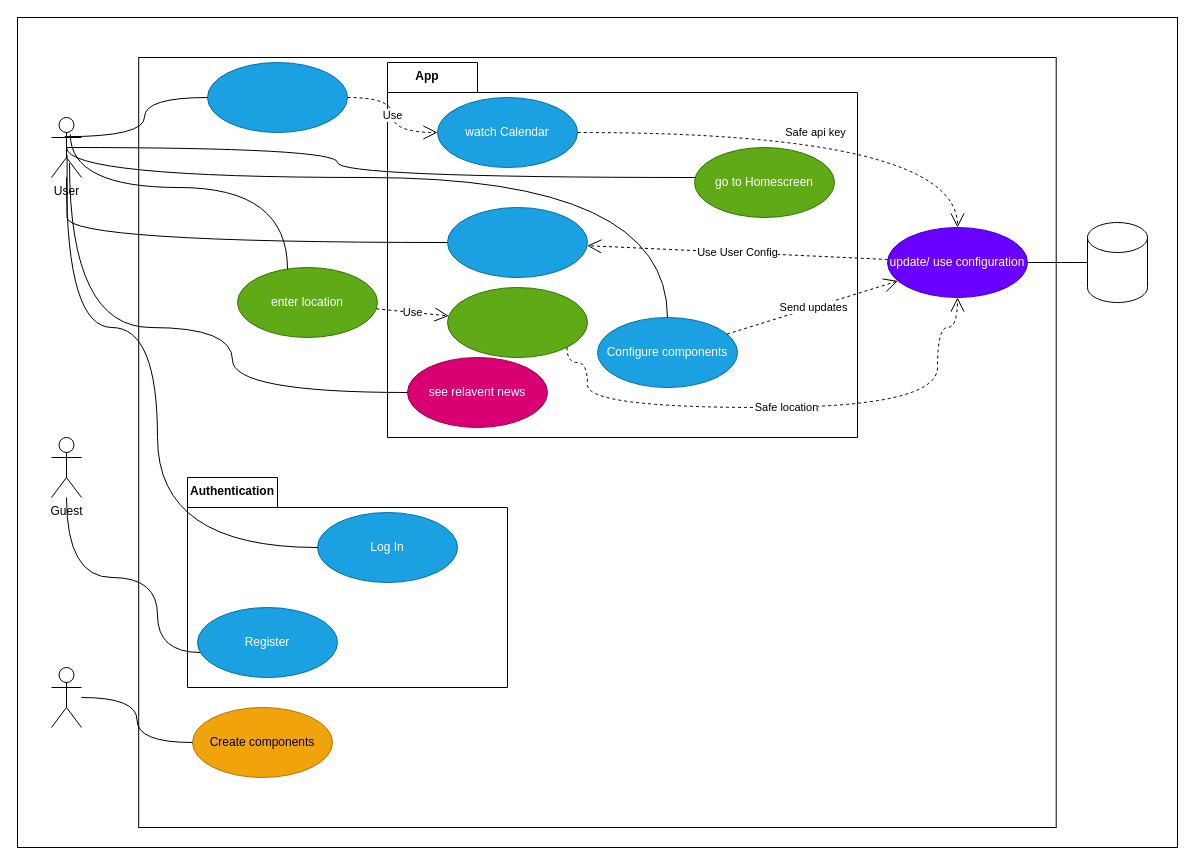
Some shapes in this 1195 by 865 pixel diagram are drawn without their labels. The centre of each missing label's shape, as x and y in pixels:
"DB" goes at (1117,262).
"Devloper" goes at (66,697).
"enter api key" goes at (277,97).
"see weather" goes at (517,322).
"Use components" goes at (517,242).
